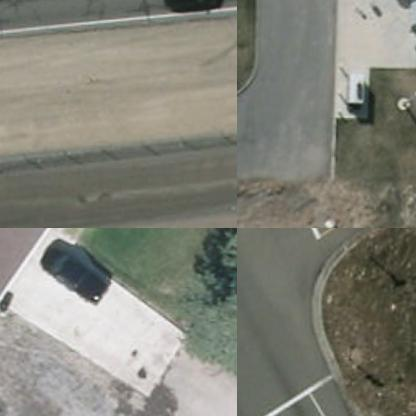car: (34, 240, 114, 311), (162, 0, 221, 17)
